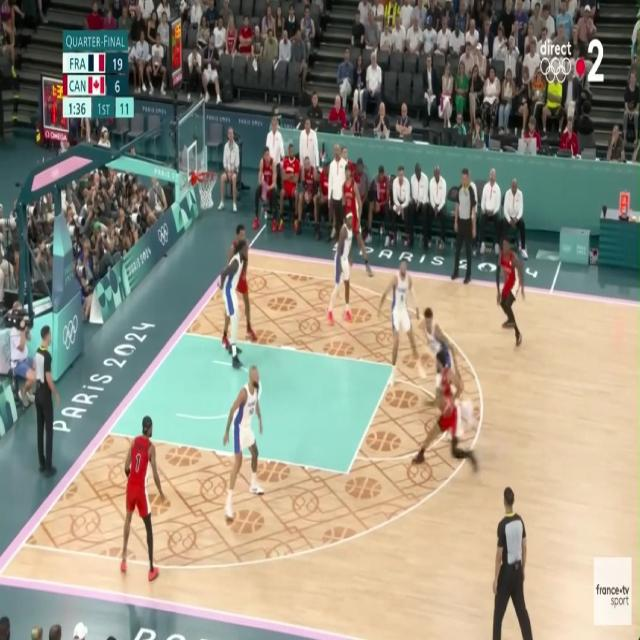ball_handler: (413, 351, 478, 475)
